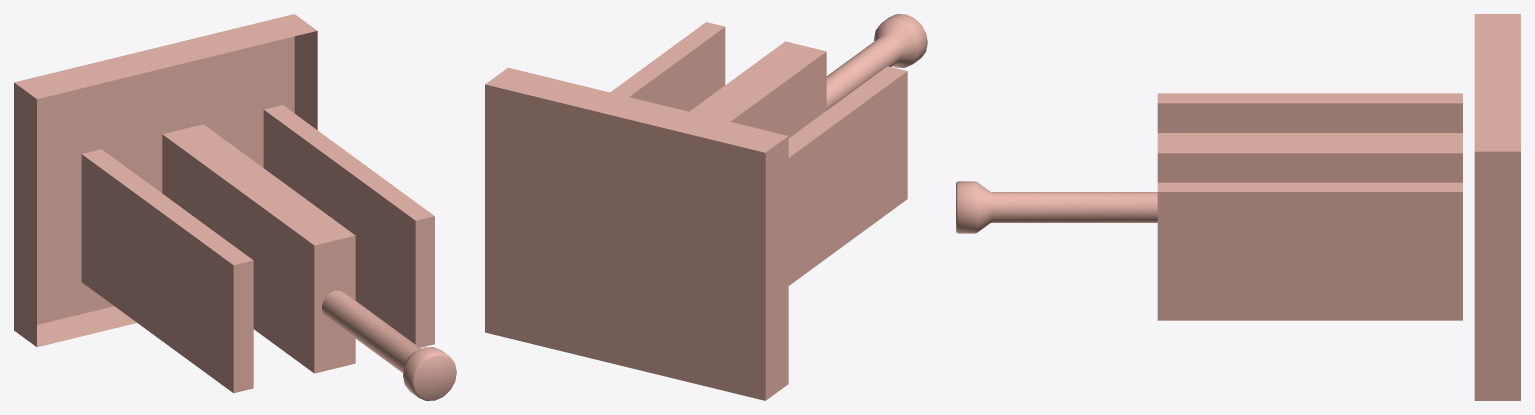
Rendered from MeshDeskLamp_1_0_GeomSubset_0.obj.
3 renders of one model, left to right at view 1: azimuth 30°, elevation 25°; view 2: azimuth 150°, elevation 25°; view 3: azimuth 270°, elevation 25°, orthographic.
Parts seen in each view (by area): view 1: MeshDeskLamp_1_0_GeomSubset_0; view 2: MeshDeskLamp_1_0_GeomSubset_0; view 3: MeshDeskLamp_1_0_GeomSubset_0.
Part boxes in pixels (box(x1,y1,x2,y2)): MeshDeskLamp_1_0_GeomSubset_0: box(14, 14, 456, 400); MeshDeskLamp_1_0_GeomSubset_0: box(485, 14, 927, 400); MeshDeskLamp_1_0_GeomSubset_0: box(956, 14, 1520, 400).
Bounding box in the file's own units: 0.1412 × 0.1193 × 0.2449.
